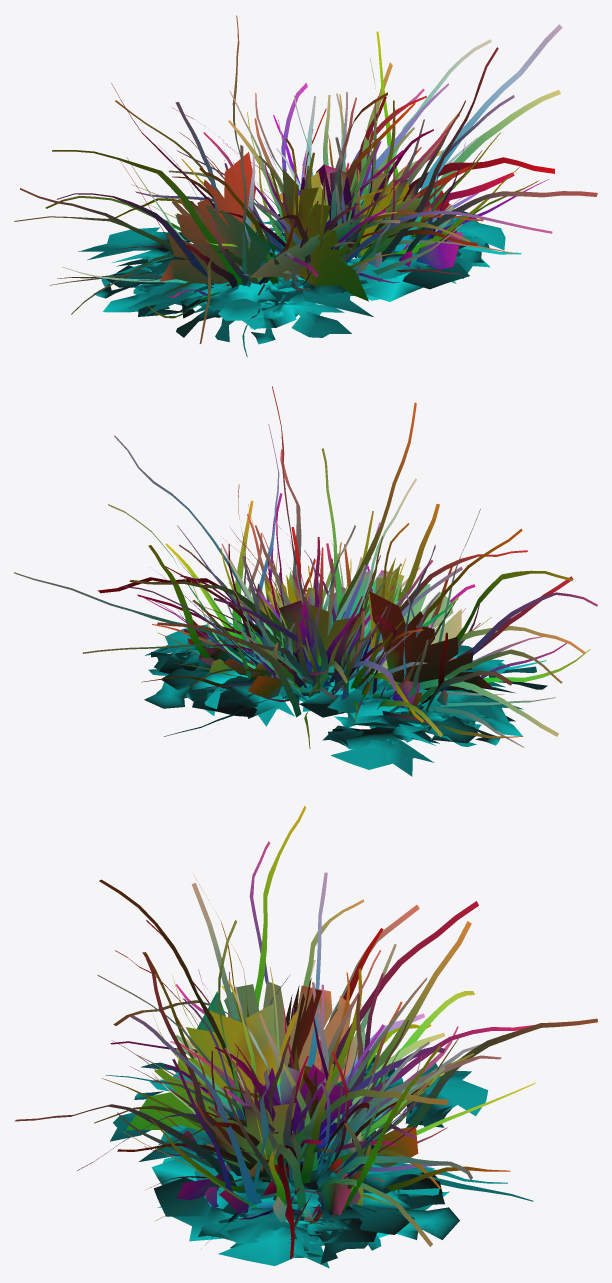
Rendered from Wild_Grass_vczndjqja_Mid_vczndjqja_VarF_LOD0.fbx.
3 views of the same model, one above another, from view 1: azimuth 30°, elevation 25°; view 2: azimuth 150°, elevation 25°; view 3: azimuth 270°, elevation 25° (orthographic). The views are drawn at different scales.
Visible parts, largest first — view 1: _qup0_VarF_LOD1; view 2: _qup0_VarF_LOD1; view 3: _qup0_VarF_LOD1.
Boxes of the visible parts, x1,y1,x2,y2 form: _qup0_VarF_LOD1: (14,15,597,356); _qup0_VarF_LOD1: (14,386,597,776); _qup0_VarF_LOD1: (14,805,597,1268).
Bounding box in the file's own units: 123 × 53.26 × 99.88.
